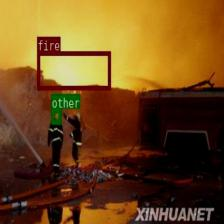fire: (37, 50, 110, 89)
